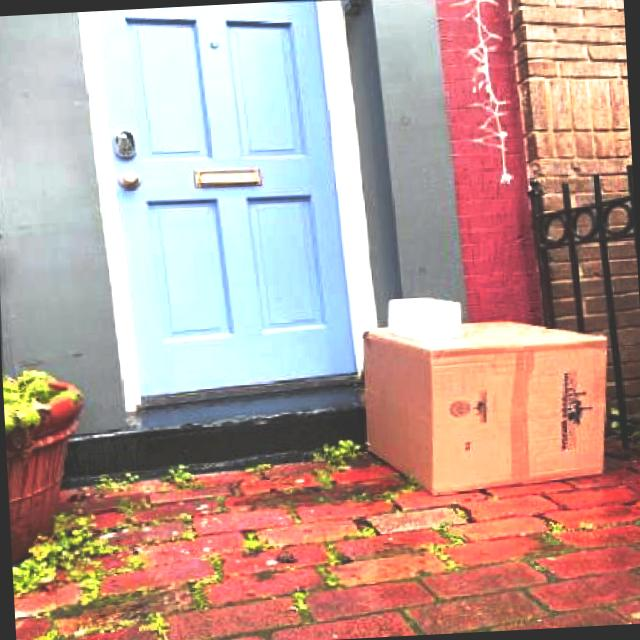Box: (344, 308, 616, 504), (376, 288, 468, 346)
